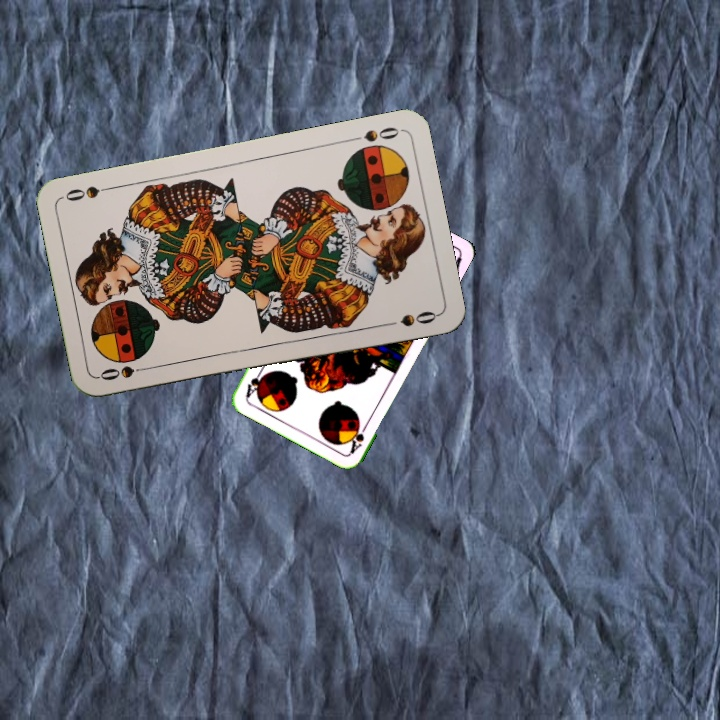SA: (345, 418, 371, 456)
SO: (96, 361, 155, 383), (344, 123, 402, 145)
